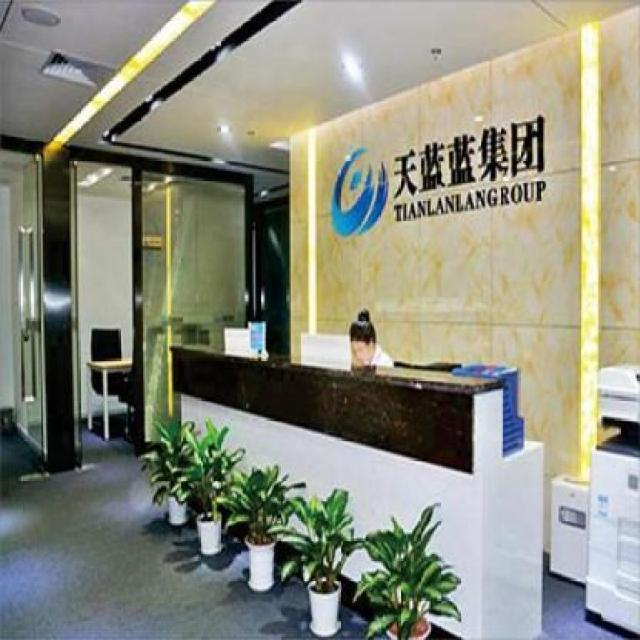frontdesk: (157, 329, 549, 640)
